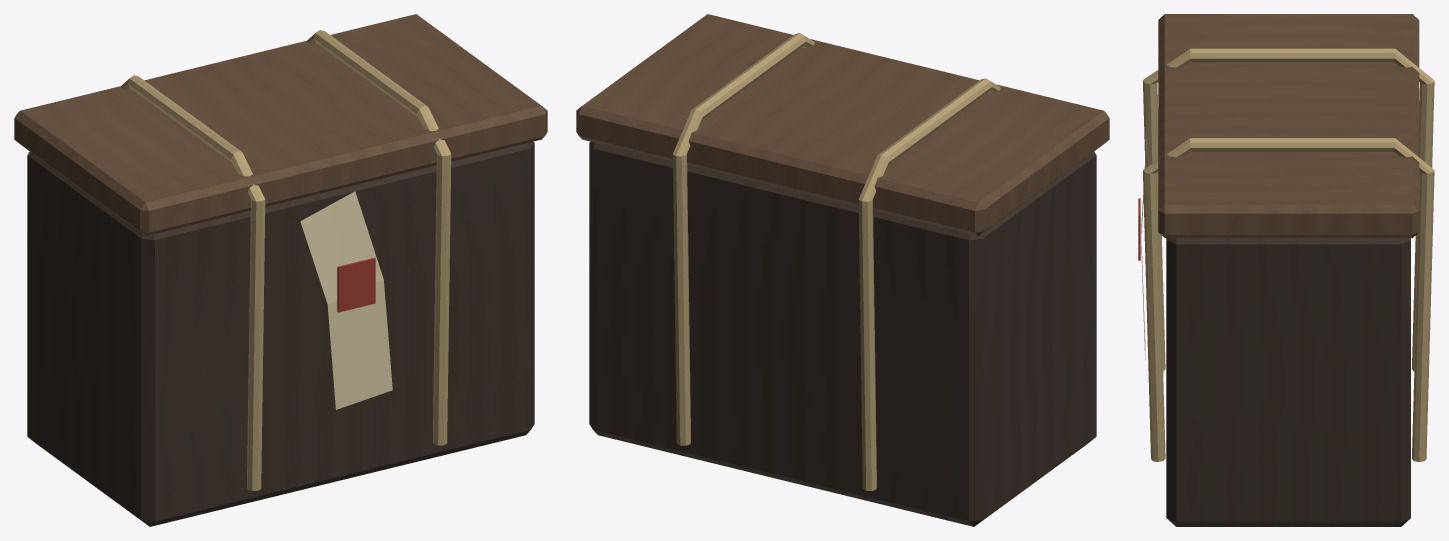
Rendered from PR_SealedRelicBox.glb.
The picture shows the model from 3 angles, left to right: view 1: azimuth 30°, elevation 25°; view 2: azimuth 150°, elevation 25°; view 3: azimuth 270°, elevation 25°; orthographic projection.
Visible parts, largest first — view 1: PR_SealedRelicBox; view 2: PR_SealedRelicBox; view 3: PR_SealedRelicBox.
Part boxes in pixels (x1=…): PR_SealedRelicBox: x1=14, y1=14, x2=547, y2=526; PR_SealedRelicBox: x1=576, y1=14, x2=1109, y2=526; PR_SealedRelicBox: x1=1138, y1=14, x2=1434, y2=526.
Bounding box in the file's own units: 0.57 × 0.4639 × 0.3635.
5 materials, 3 textured.
